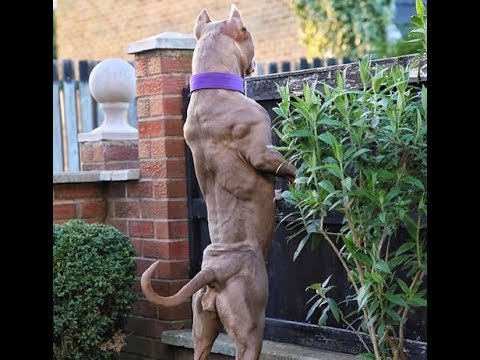dog: (142, 3, 300, 360)
